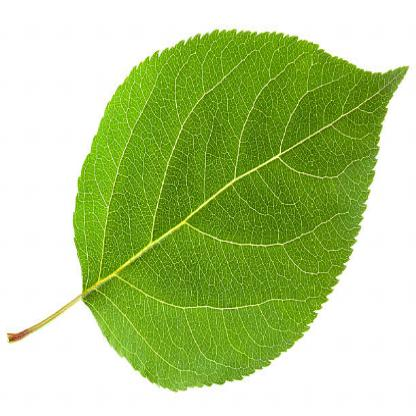apple leaf: (70, 21, 415, 404)
